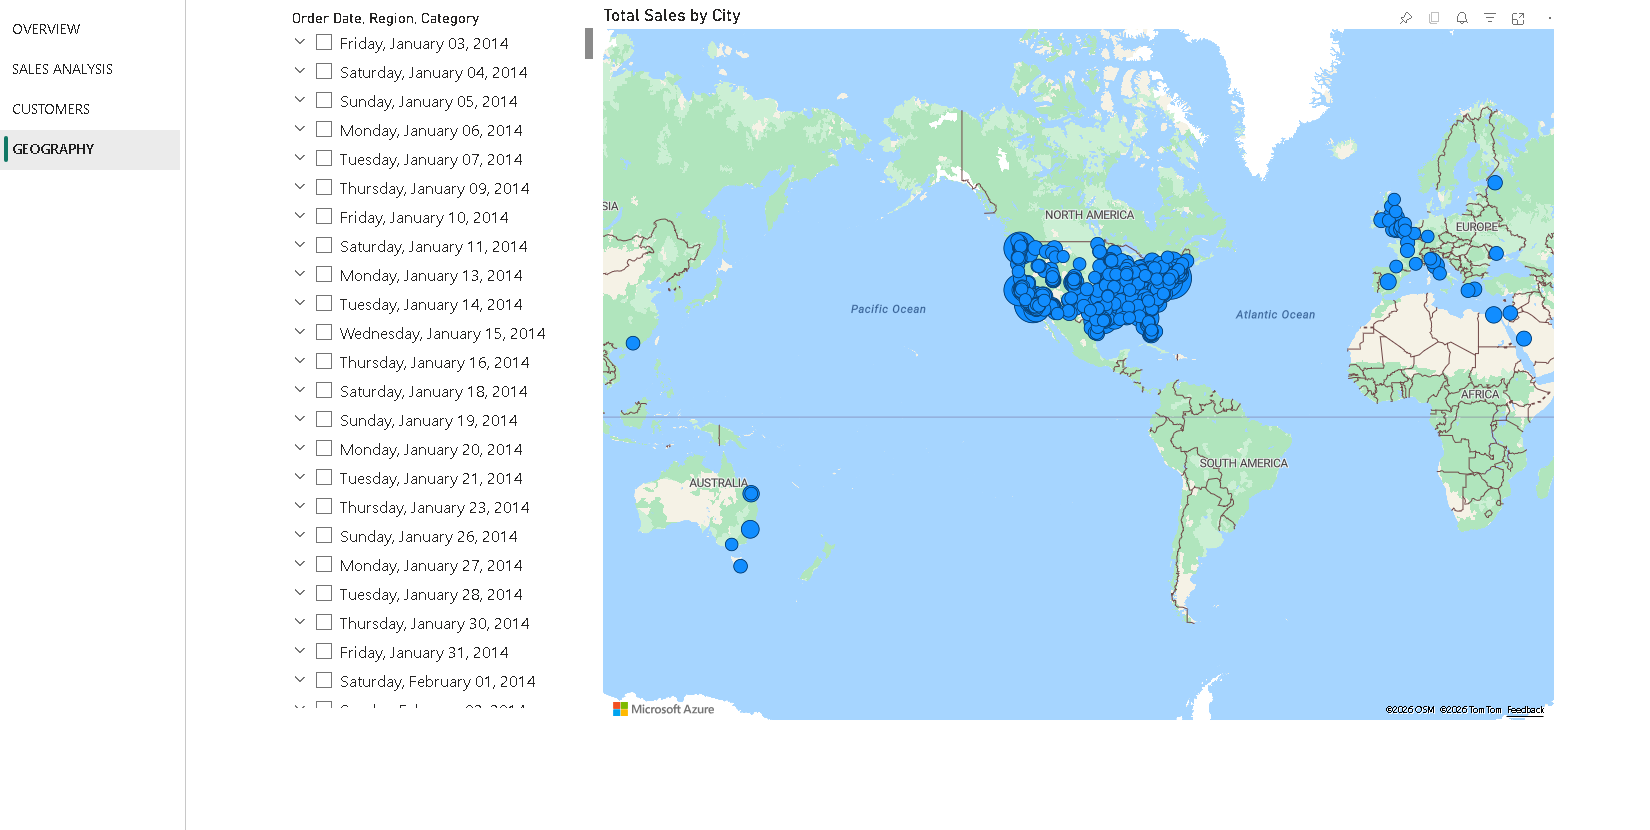

This screenshot's page, from the dashboard's own definition file:
{"tool":"powerbi","page":{"name":"GEOGRAPHY","canvas":[1280,720],"ordinal":3},"visuals":[{"type":"slicer","fields":{"Values":["clean_superstore.Order Date","clean_superstore.Region","clean_superstore.Category"]},"box":[0,0,319,708],"z":1000},{"type":"azureMap","fields":{"Category":["clean_superstore.City"],"Size":["Sum(clean_superstore.Sales)"]},"box":[319,0,961,720],"z":1500}]}

Visuals, with their boxes on the page's 1280x720 design canvas (x1, y1, x2, y2). These are canvas units, not pixel positions in the 1650x830 screenshot, which may show the page scaled, cropped or inside an application window:
slicer - clean_superstore.Order Date x clean_superstore.Region: bbox=(0, 0, 319, 708)
azureMap - clean_superstore.City x Sum(clean_superstore.Sales): bbox=(319, 0, 1280, 720)
